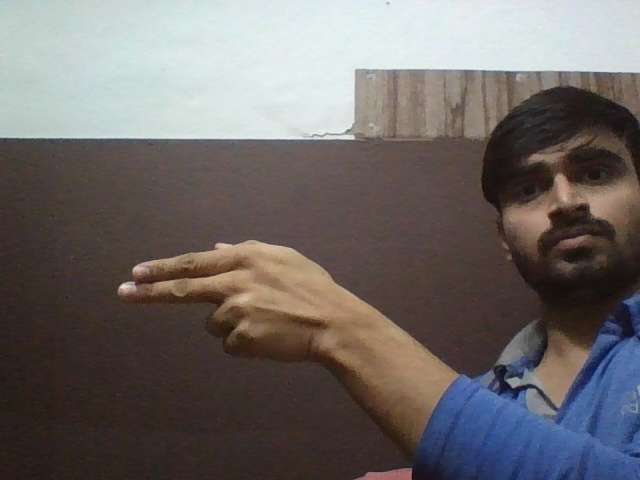H: (103, 236, 341, 373)
